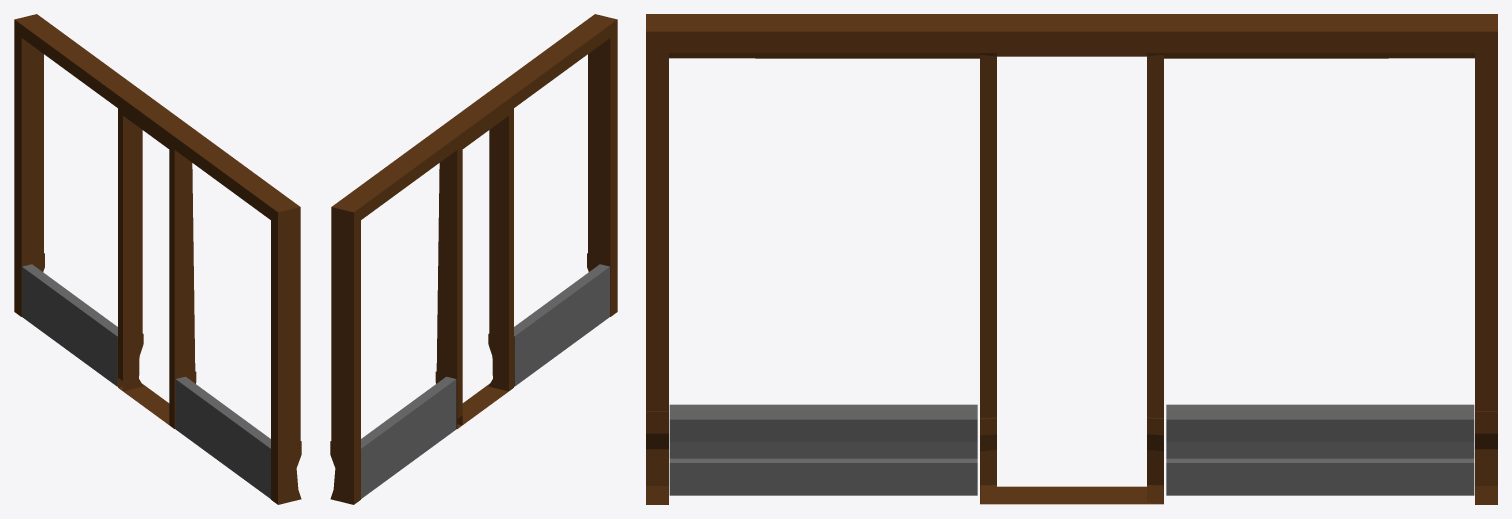
The model's file is Grocer.fbx.
The picture shows the model from 3 angles, left to right: view 1: azimuth 30°, elevation 25°; view 2: azimuth 150°, elevation 25°; view 3: azimuth 270°, elevation 25°; orthographic projection. The views are drawn at different scales.
Visible parts, largest first — view 1: Cube.017; view 2: Cube.017; view 3: Cube.017.
Part boxes in pixels (left/top/right/bottom): Cube.017: left=14, top=14, right=301, bottom=504; Cube.017: left=330, top=14, right=617, bottom=504; Cube.017: left=646, top=14, right=1497, bottom=504.
Size of the model in its own units: 28.42 by 553 by 339.
